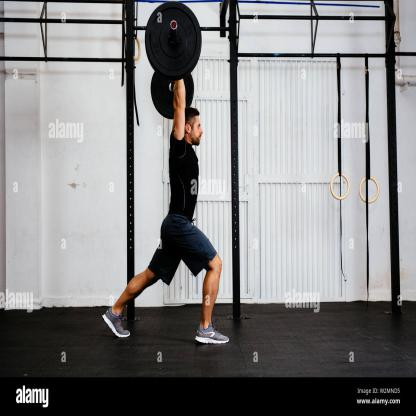Barbell: (145, 2, 207, 84)
